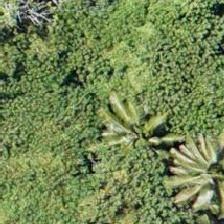coconut_tree: (97, 87, 187, 177), (172, 132, 223, 222)
